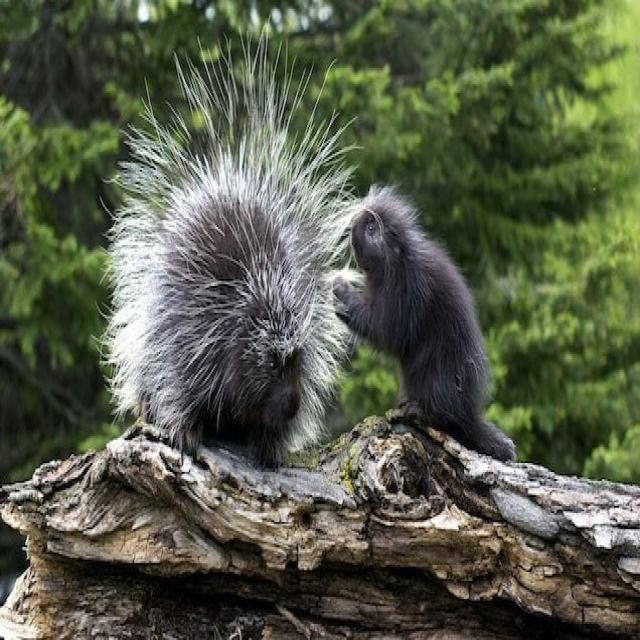Porcupine: (136, 138, 331, 443), (337, 194, 507, 442)
